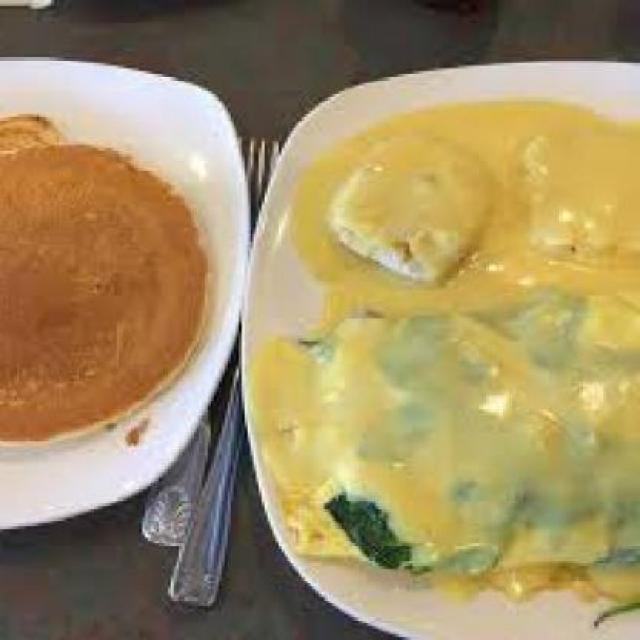pancakes: (2, 105, 216, 452)
